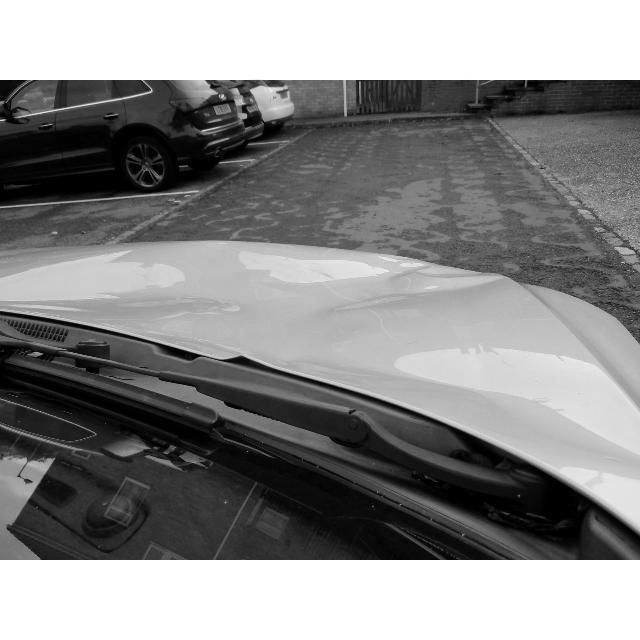bonnet-dent: (24, 219, 631, 421)
